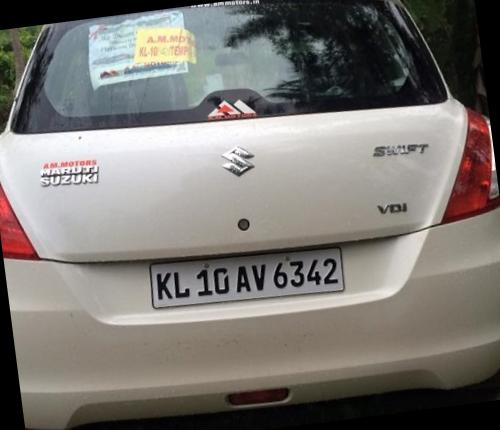plate: (143, 229, 353, 327)
